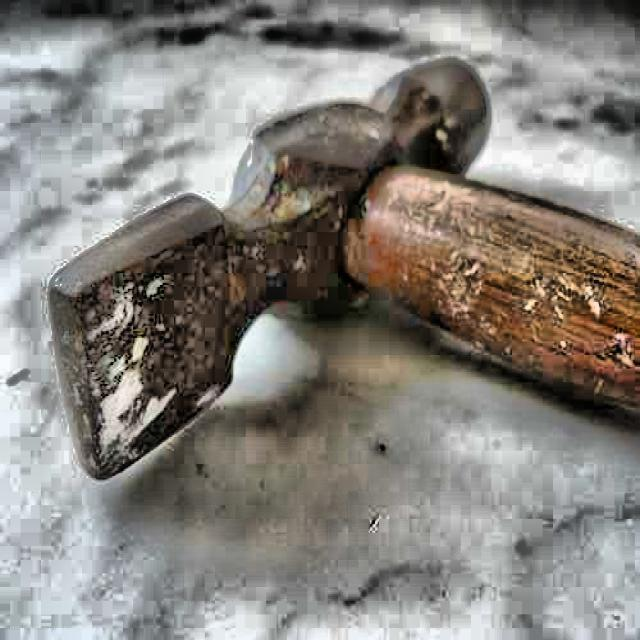hammer: (42, 54, 640, 474)
